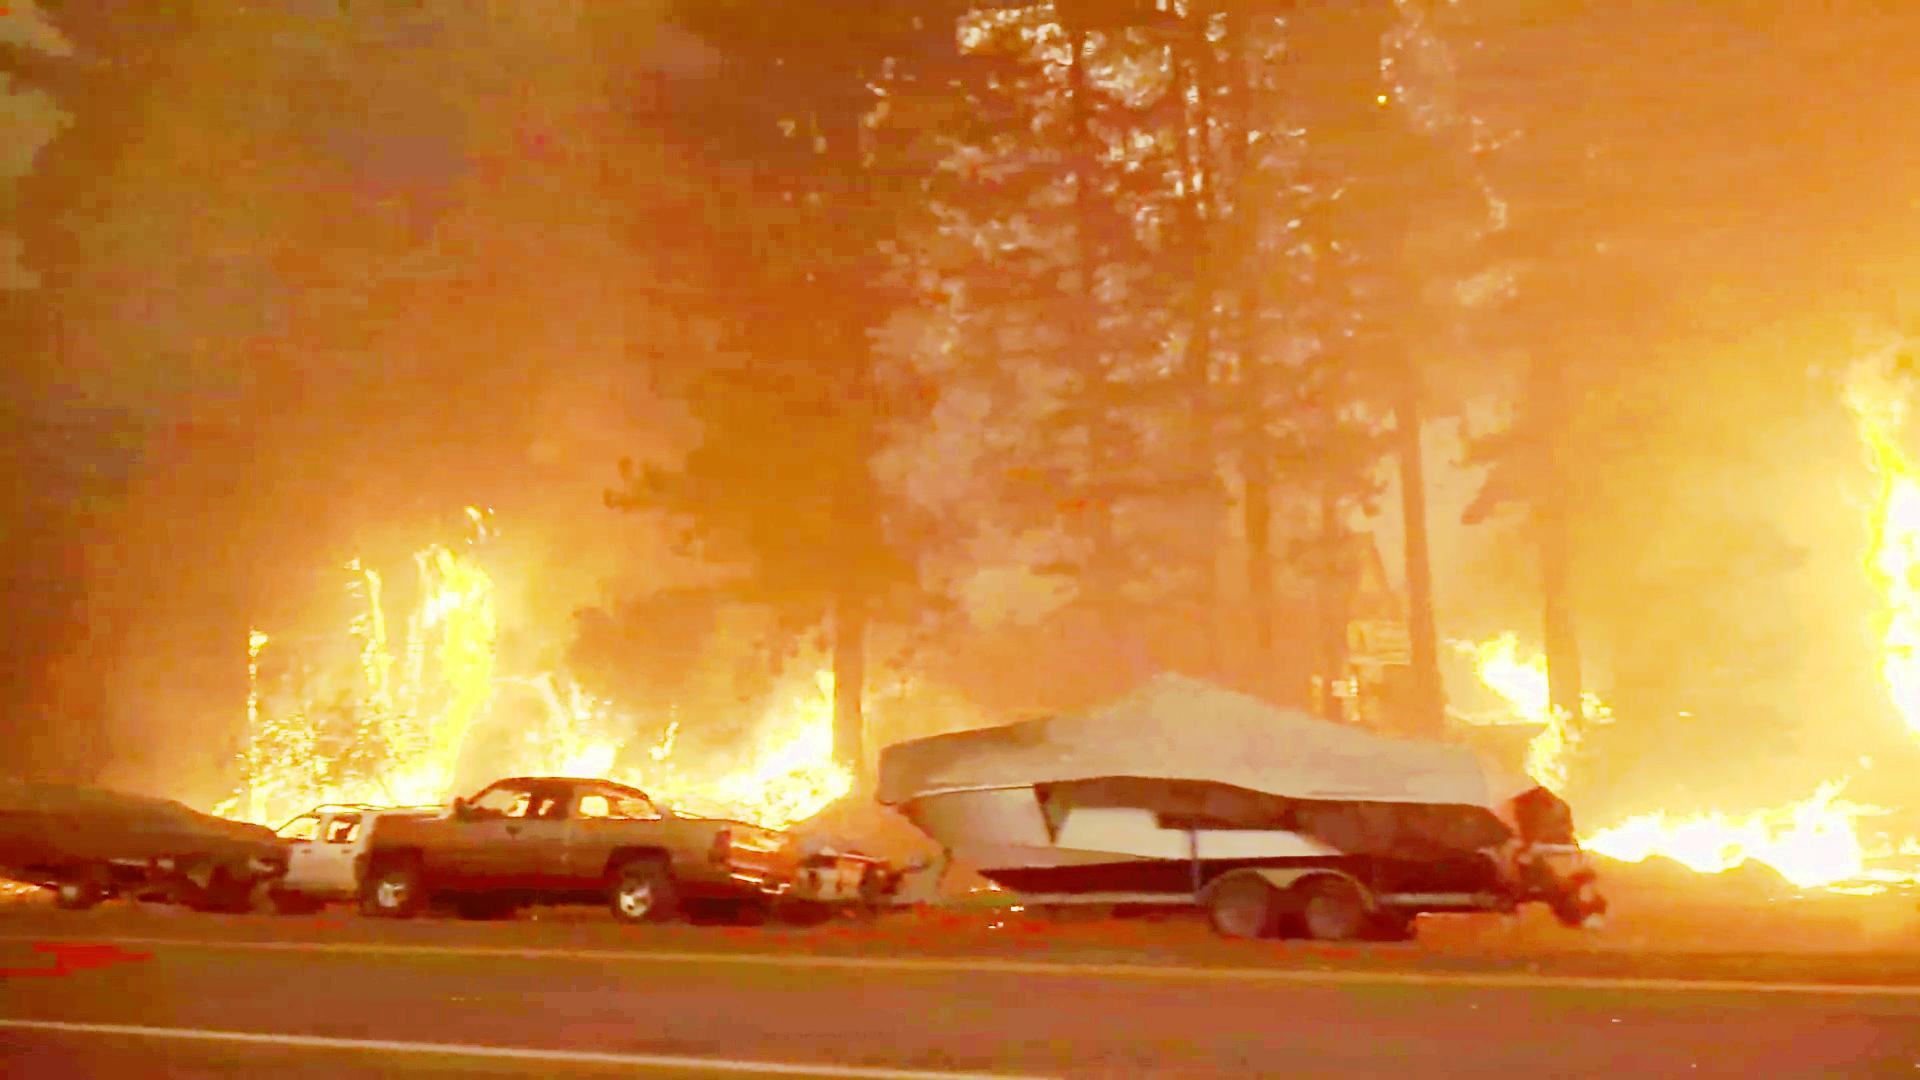fire: (195, 527, 485, 802), (1573, 786, 1888, 885), (1846, 335, 1920, 753)
